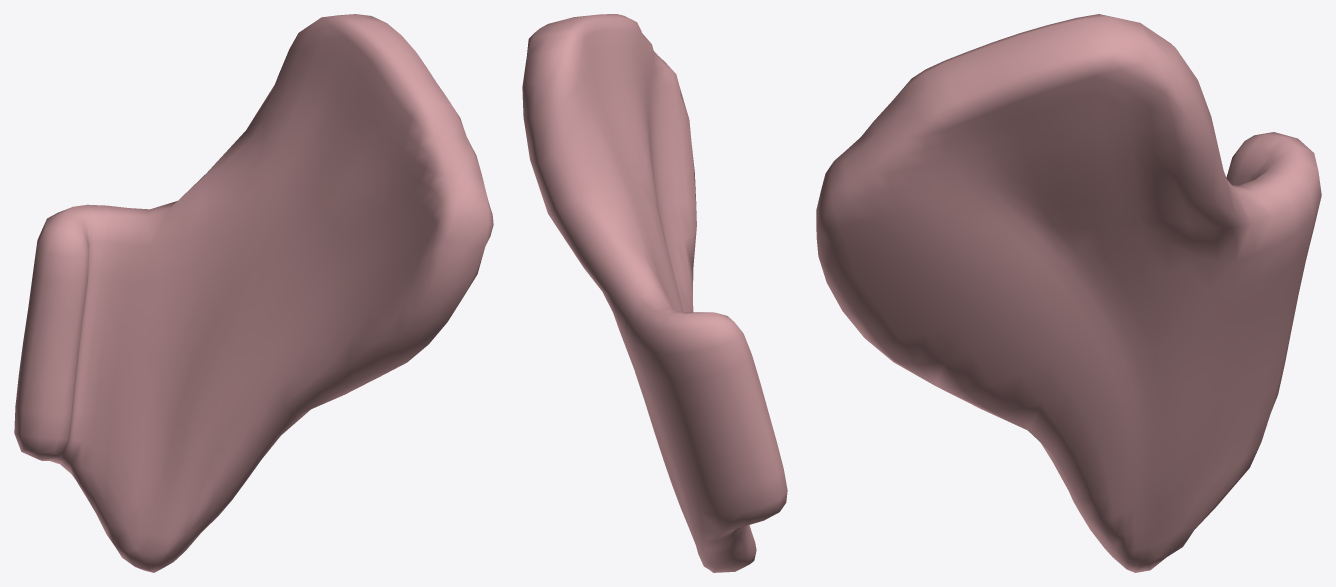
The picture shows the model from 3 angles, left to right: view 1: azimuth 30°, elevation 25°; view 2: azimuth 150°, elevation 25°; view 3: azimuth 270°, elevation 25°; orthographic projection. The views are drawn at different scales.
Parts seen in each view (by area): view 1: ZA_c8569a4be8296d88; view 2: ZA_c8569a4be8296d88; view 3: ZA_c8569a4be8296d88.
Boxes of the visible parts, box(x1,y1,x2,y2) form: ZA_c8569a4be8296d88: box(14, 14, 493, 572); ZA_c8569a4be8296d88: box(522, 14, 787, 572); ZA_c8569a4be8296d88: box(816, 14, 1321, 572).
Bounding box in the file's own units: 0.0314 × 0.0476 × 0.0331.
